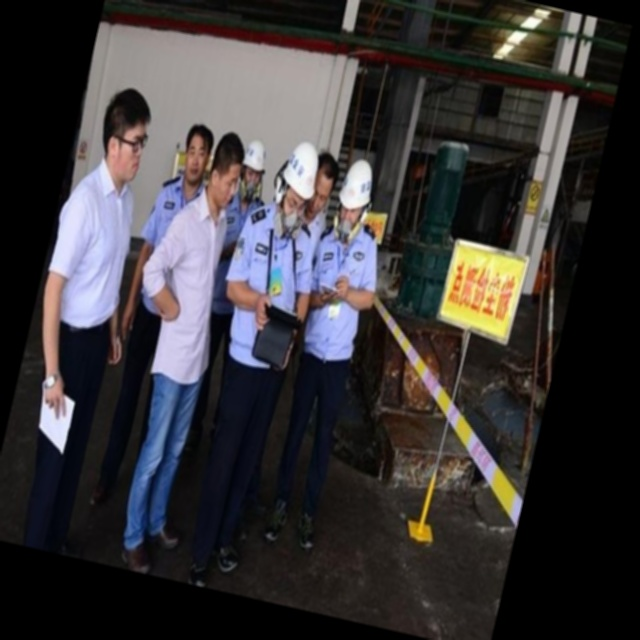Con_Casco: (273, 139, 324, 232), (328, 156, 377, 244)
Sin_Casco_Mascarrilla: (200, 129, 250, 214), (175, 121, 216, 191)
